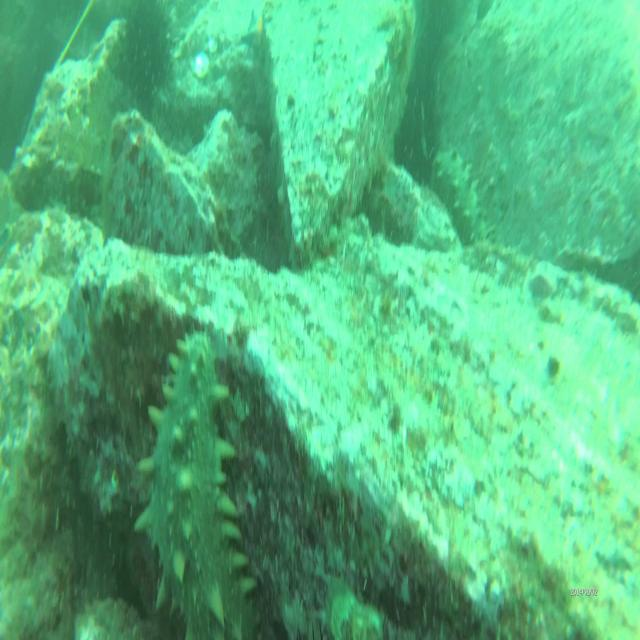echinus: (115, 0, 175, 111)
holothurian: (134, 330, 262, 640), (434, 146, 488, 245)
starfish: (239, 6, 265, 54)
